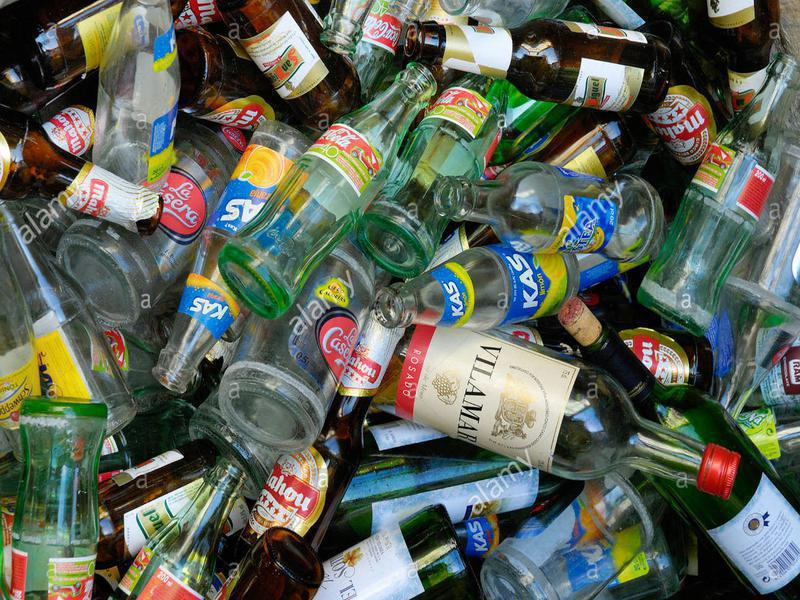bottle: (354, 313, 739, 508), (210, 59, 438, 318), (633, 51, 800, 336), (398, 10, 676, 116), (427, 156, 669, 263)
